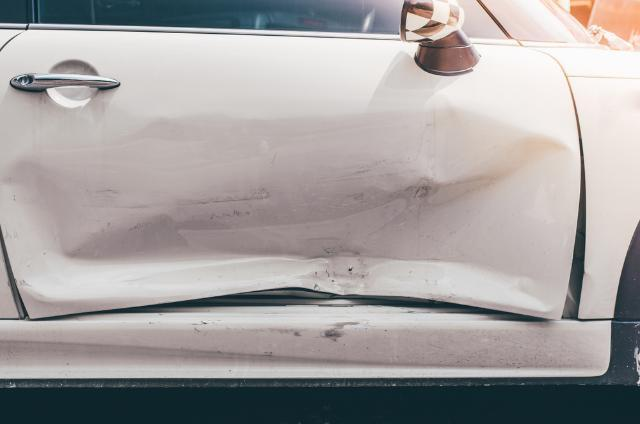dent: (0, 109, 580, 314)
scratch: (221, 321, 368, 345)
